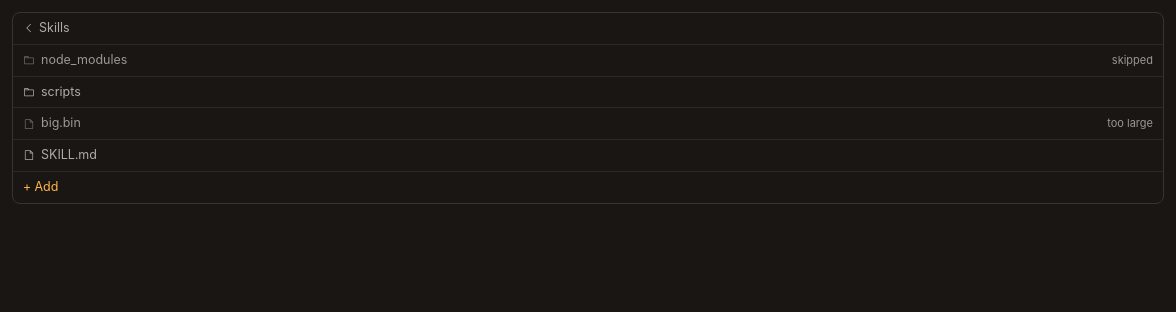
Test: SkillBundle › offers three ways to add, and only after asking
The image size is (1176, 312).
Check: the button "New file" is not shown
Click the button "+ Add". click: (41, 186)
box: [13,171,1163,203]
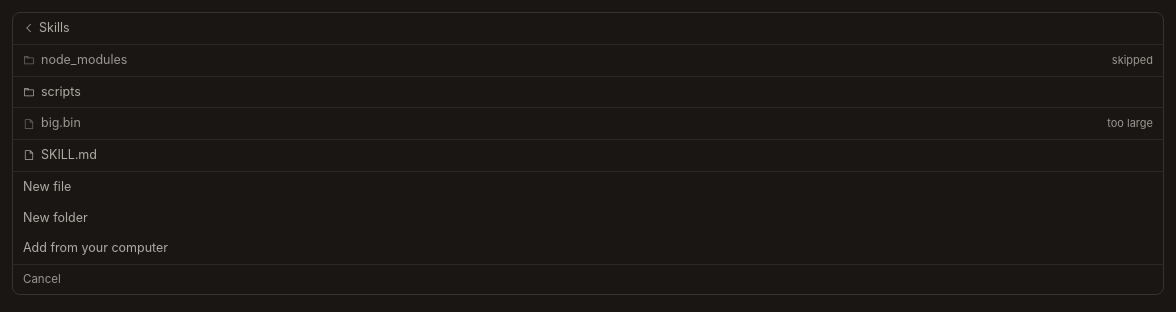
Check: the button "New folder" is shown, box [13,202,1163,233]
Check: the button "Add from your computer" is shown, box [13,233,1163,264]
Click the button "New file". click: (47, 186)
box: [13,172,1163,203]
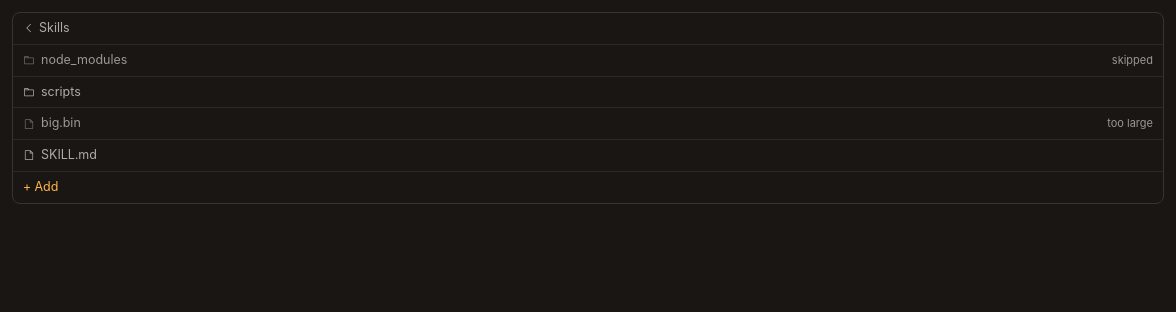
Check: the button "+ Add" is shown, box [13,171,1163,203]
